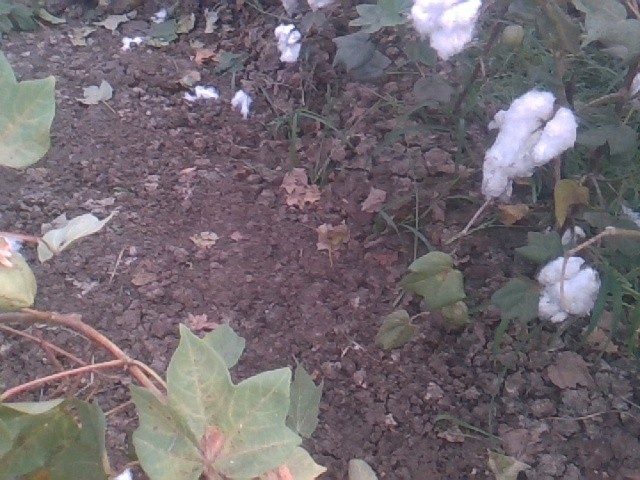cotton: (479, 88, 578, 206), (536, 255, 601, 324), (409, 1, 483, 60), (273, 22, 302, 63)
